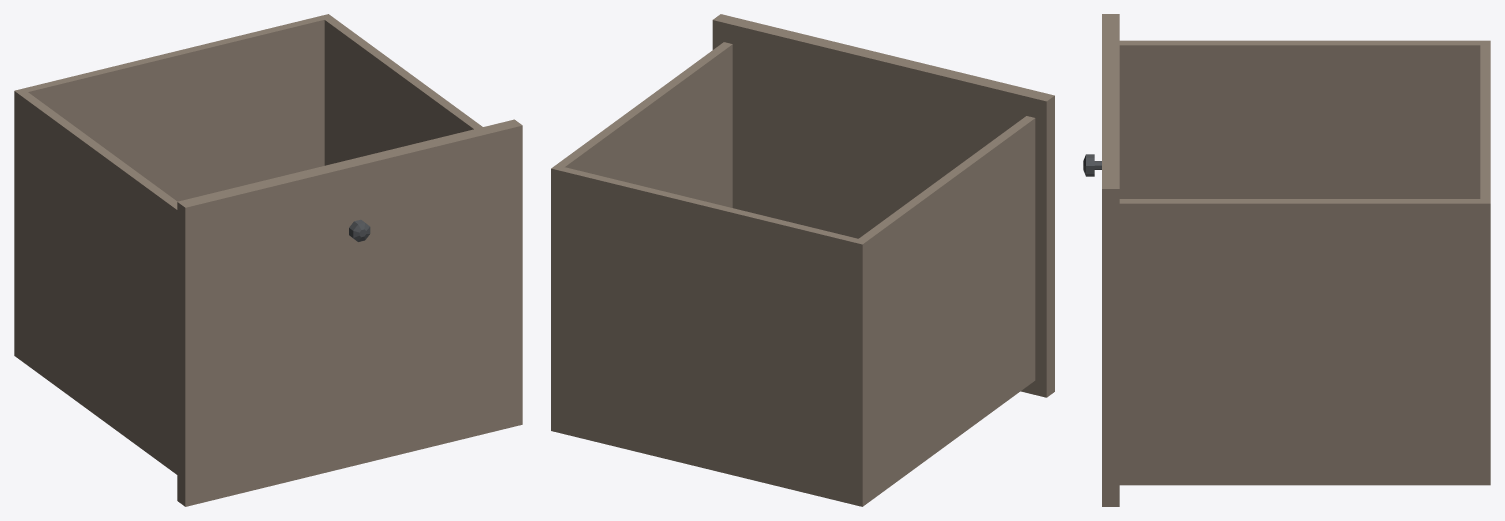
Rendered from Door3_C5_06.fbx.
3 views of the same model, side by side, from view 1: azimuth 30°, elevation 25°; view 2: azimuth 150°, elevation 25°; view 3: azimuth 270°, elevation 25° (orthographic). The views are drawn at different scales.
Visible parts, largest first — view 1: Door3_C5_06; view 2: Door3_C5_06; view 3: Door3_C5_06.
Part boxes in pixels (x1,y1,x2,y2): Door3_C5_06: (14, 14, 522, 506); Door3_C5_06: (551, 14, 1054, 506); Door3_C5_06: (1083, 14, 1490, 506).
Bounding box in the file's own units: 59 × 50 × 58.03.
